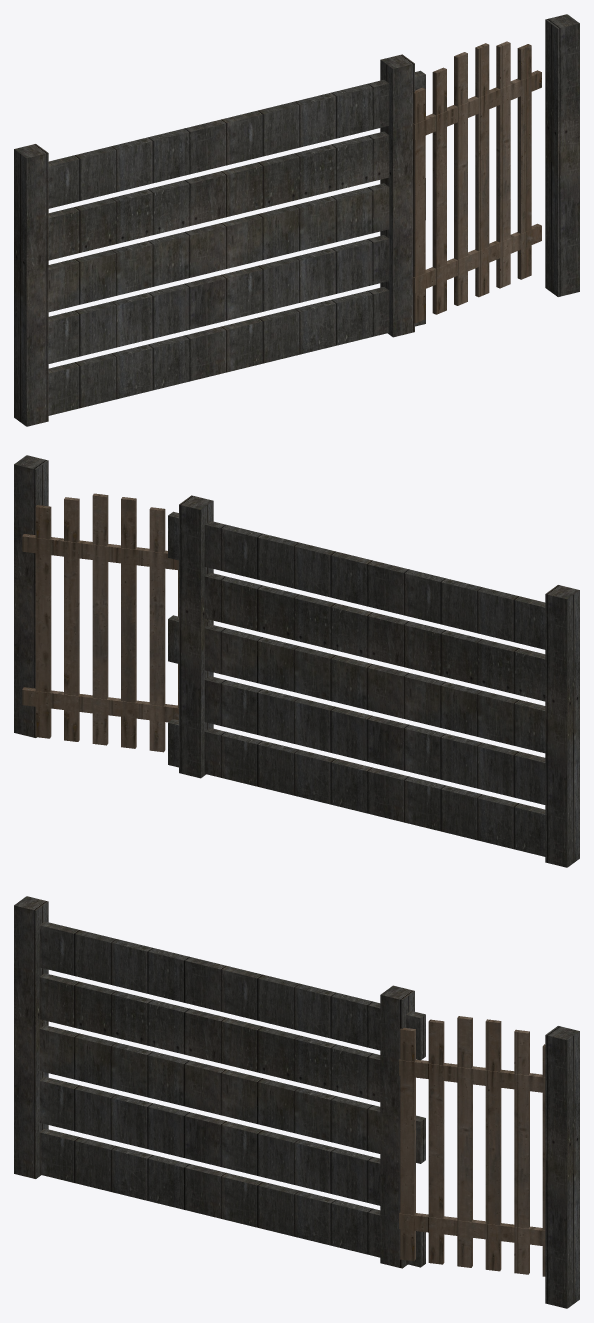
The model's file is stall_partition.glb.
3 renders of one model, top to bottom at view 1: azimuth 30°, elevation 25°; view 2: azimuth 150°, elevation 25°; view 3: azimuth 330°, elevation 25°, orthographic.
Parts seen in each view (by area): view 1: stall_partition; view 2: stall_partition; view 3: stall_partition.
Boxes of the visible parts, bbox=[...] form: stall_partition: bbox=[14, 14, 579, 426]; stall_partition: bbox=[14, 455, 579, 867]; stall_partition: bbox=[14, 896, 579, 1308].
Bounding box in the file's own units: 3.02 × 1.4 × 0.2369.
2 materials, 2 textured.
